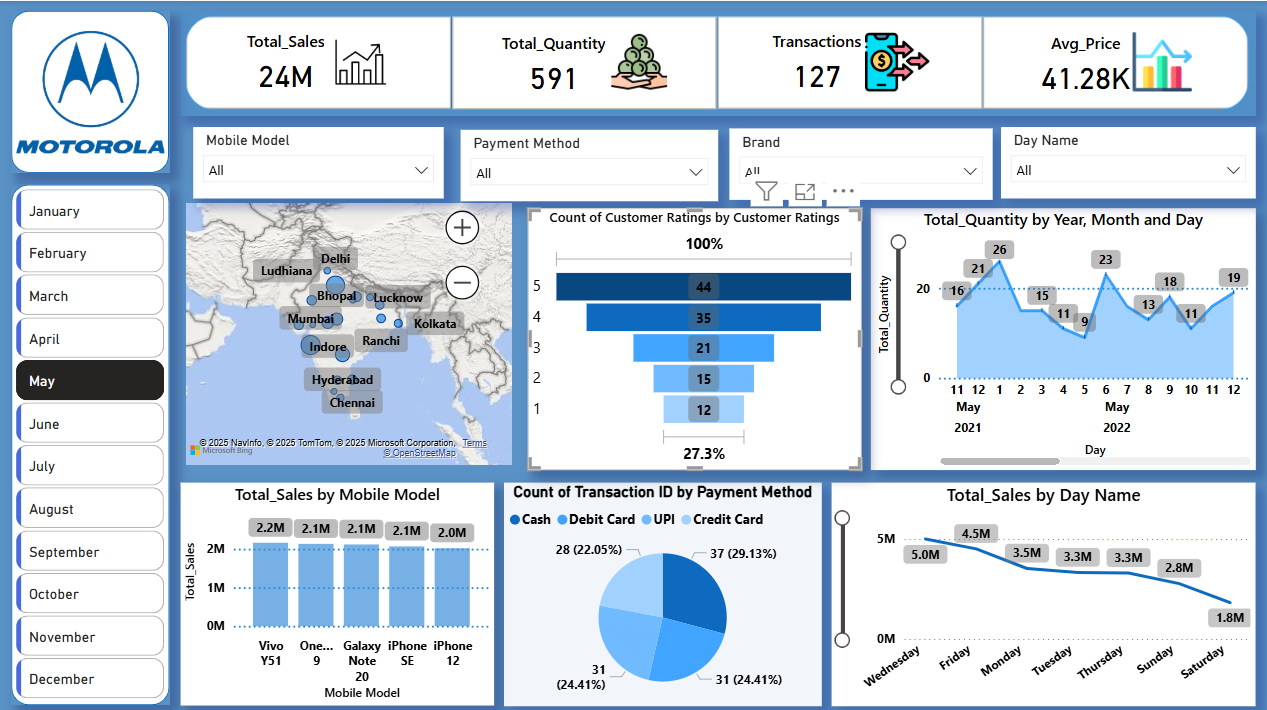

The page's visual inventory and layout, read from the dashboard file:
{"tool":"powerbi","page":{"name":"Page 1","canvas":[1280,720],"ordinal":0},"visuals":[{"type":"shape","box":[11.3,9.9,159.7,163.9],"z":0},{"type":"image","box":[11.3,9.9,159.7,163.9],"z":1000},{"type":"shape","box":[11.3,185.1,159.7,525.6],"z":2000},{"type":"advancedSlicerVisual","fields":{"Values":["Mobile_Sales_Data.Date.Variation.Date Hierarchy.Month"]},"box":[11.3,185.1,159.7,525.6],"z":3000},{"type":"cardVisual","fields":{"Data":["Mobile_Sales_Data.Total_Sales","Mobile_Sales_Data.Total_Quantity","Mobile_Sales_Data.Transactions","Mobile_Sales_Data.Avg_Price"]},"box":[182.3,9.9,1085.1,106],"z":4000},{"type":"map","fields":{"Category":["Mobile_Sales_Data.City"],"Size":["Mobile_Sales_Data.Total_Sales"]},"box":[182.3,199.2,339.1,274.1],"z":5000},{"type":"lineChart","fields":{"Y":["Mobile_Sales_Data.Total_Quantity"],"Category":["Mobile_Sales_Data.Date.Variation.Date Hierarchy.Year","Mobile_Sales_Data.Date.Variation.Date Hierarchy.Month","Mobile_Sales_Data.Date.Variation.Date Hierarchy.Day"]},"box":[878.8,209.1,388.5,264.2],"z":6000},{"type":"columnChart","fields":{"Category":["Mobile_Sales_Data.Mobile Model"],"Y":["Mobile_Sales_Data.Total_Sales"]},"box":[182.3,486,316.5,224.6],"z":7000},{"type":"pieChart","fields":{"Category":["Mobile_Sales_Data.Payment Method"],"Y":["CountNonNull(Mobile_Sales_Data.Transaction ID)"]},"box":[508.6,486,320.7,226.1],"z":8000},{"type":"funnel","fields":{"Category":["Mobile_Sales_Data.Customer Ratings"],"Y":["CountNonNull(Mobile_Sales_Data.Customer Ratings)"]},"box":[532.7,209.1,336.3,264.2],"z":9000},{"type":"lineChart","fields":{"Category":["Mobile_Sales_Data.Day Name"],"Y":["Mobile_Sales_Data.Total_Sales"]},"box":[839.3,486,428.1,226.1],"z":10000},{"type":"slicer","fields":{"Values":["Mobile_Sales_Data.Mobile Model"]},"box":[195,127.2,252.9,72.1],"z":11000},{"type":"slicer","fields":{"Values":["Mobile_Sales_Data.Payment Method"]},"box":[464.8,130,260,72.1],"z":12000},{"type":"slicer","fields":{"Values":["Mobile_Sales_Data.Brand"]},"box":[736.1,128.6,265.6,72.1],"z":13000},{"type":"slicer","fields":{"Values":["Mobile_Sales_Data.Day Name"]},"box":[1010.2,127.2,257.1,72.1],"z":14000}]}

Visuals, with their boxes in screenshot pixels (x1, y1, x2, y2), scaled from the page's 1280x720 canvas onto the 1267x710 screenshot:
shape: pyautogui.locateOnScreen(11, 10, 169, 171)
image: pyautogui.locateOnScreen(11, 10, 169, 171)
shape: pyautogui.locateOnScreen(11, 183, 169, 701)
advancedSlicerVisual - Mobile_Sales_Data.Date.Variation.Date Hierarchy.Month: pyautogui.locateOnScreen(11, 183, 169, 701)
cardVisual - Mobile_Sales_Data.Total_Sales x Mobile_Sales_Data.Total_Quantity: pyautogui.locateOnScreen(180, 10, 1255, 114)
map - Mobile_Sales_Data.City x Mobile_Sales_Data.Total_Sales: pyautogui.locateOnScreen(180, 196, 516, 467)
lineChart - Mobile_Sales_Data.Total_Quantity x Mobile_Sales_Data.Date.Variation.Date Hierarchy.Year: pyautogui.locateOnScreen(870, 206, 1254, 467)
columnChart - Mobile_Sales_Data.Mobile Model x Mobile_Sales_Data.Total_Sales: pyautogui.locateOnScreen(180, 479, 494, 701)
pieChart - Mobile_Sales_Data.Payment Method x CountNonNull(Mobile_Sales_Data.Transaction ID): pyautogui.locateOnScreen(503, 479, 821, 702)
funnel - Mobile_Sales_Data.Customer Ratings x CountNonNull(Mobile_Sales_Data.Customer Ratings): pyautogui.locateOnScreen(527, 206, 860, 467)
lineChart - Mobile_Sales_Data.Day Name x Mobile_Sales_Data.Total_Sales: pyautogui.locateOnScreen(831, 479, 1255, 702)
slicer - Mobile_Sales_Data.Mobile Model: pyautogui.locateOnScreen(193, 125, 443, 197)
slicer - Mobile_Sales_Data.Payment Method: pyautogui.locateOnScreen(460, 128, 717, 199)
slicer - Mobile_Sales_Data.Brand: pyautogui.locateOnScreen(729, 127, 992, 198)
slicer - Mobile_Sales_Data.Day Name: pyautogui.locateOnScreen(1000, 125, 1254, 197)
